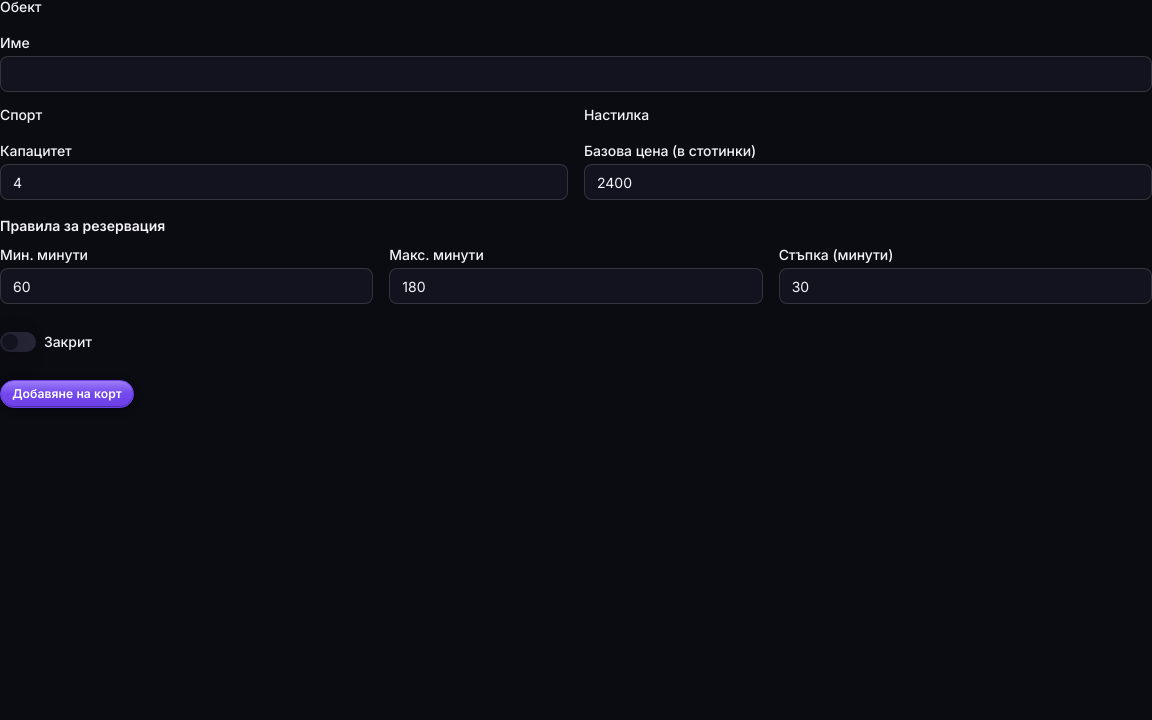
Test: squash and karting on the courts screen (P51) › picking karting makes it a track before it is saved: "Закрита", "Добавяне на писта"
Check: the button "Добавяне на корт" is shown, box [0, 380, 134, 408]
Click the button named "Спорт, Падел". click: coordinates (21, 115)
box: [0, 108, 42, 122]
(page scrolled)
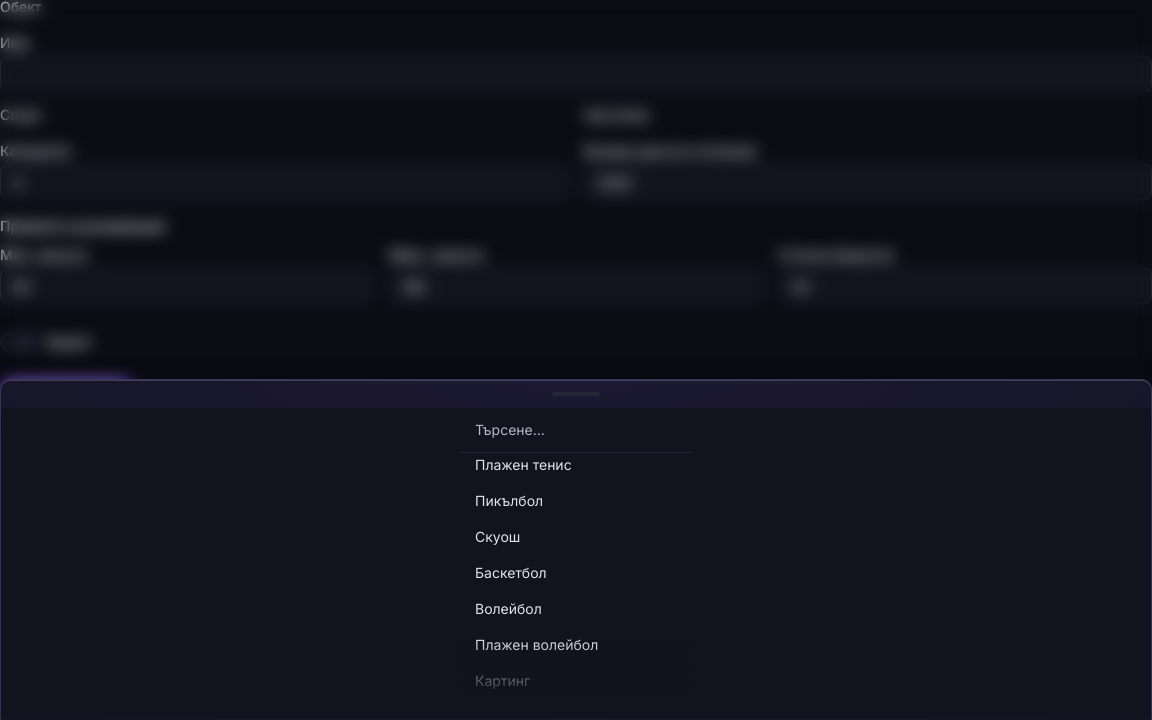
Click the option "Картинг". click: coordinates (503, 680)
box: [475, 672, 530, 689]
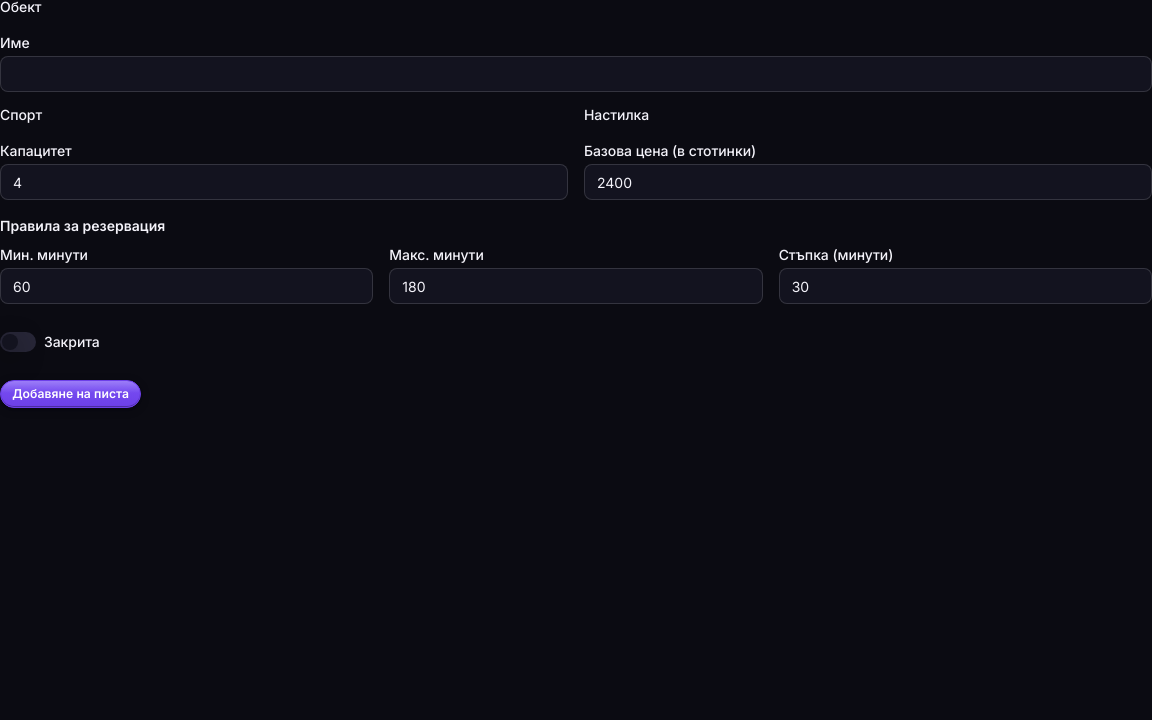
Check: the text "Добавяне на писта" is shown, box [12, 385, 129, 403]
Check: the button "Добавяне на писта" is shown, box [0, 380, 141, 408]
Check: the button "Добавяне на корт" no longer shows "корт"
# And back: squash is a court.
Click the button "Спорт". click: coordinates (21, 115)
box: [0, 108, 42, 122]
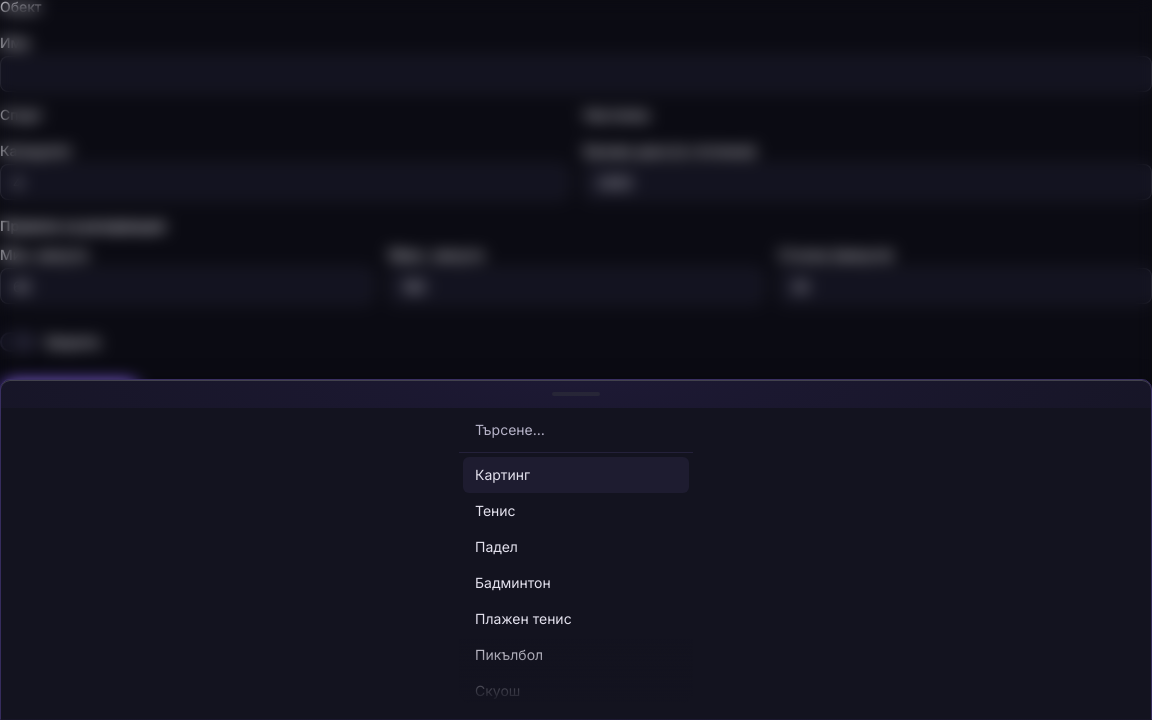
Click the option "Скуош". click: coordinates (498, 690)
box: [475, 682, 520, 699]
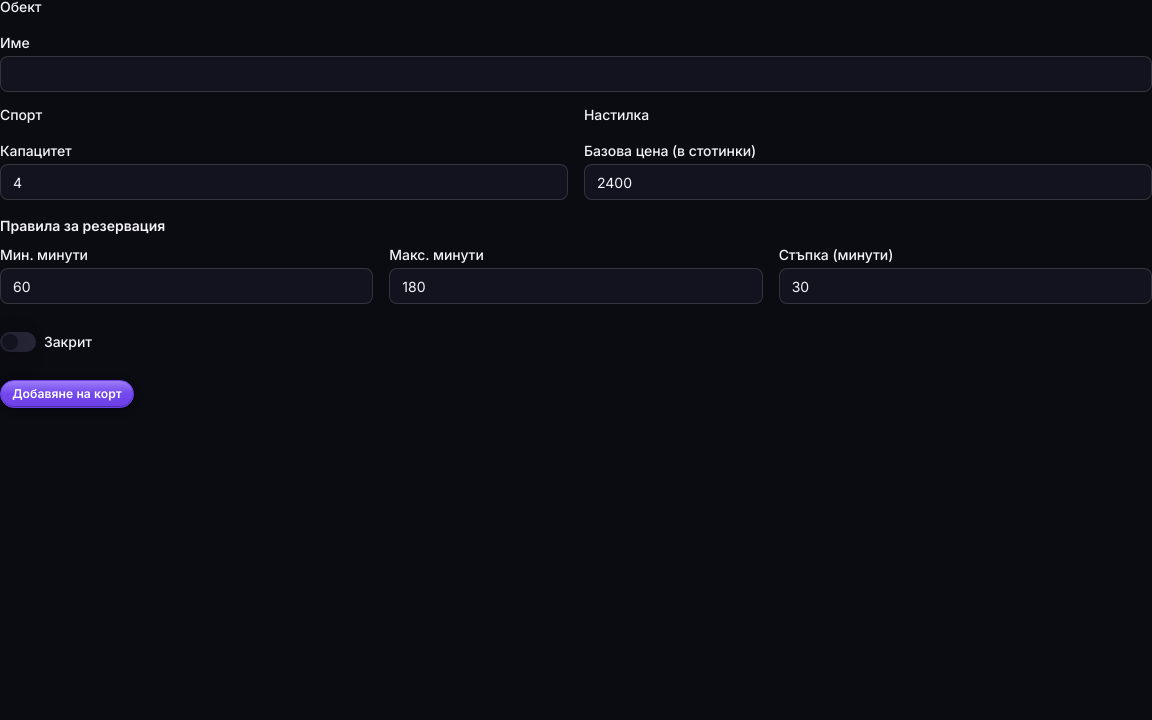
Check: the button "Добавяне на корт" is shown, box [0, 380, 134, 408]
